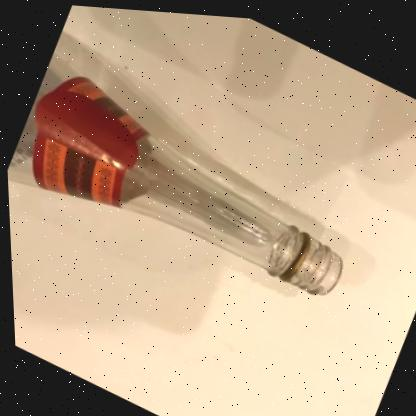Glass: (6, 52, 338, 289)
